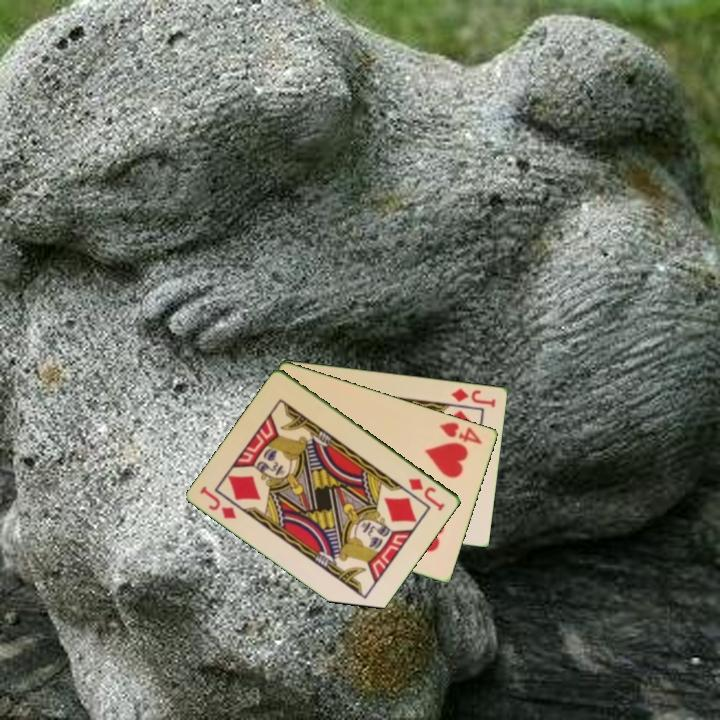4h: (436, 418, 486, 447)
Jd: (405, 474, 448, 514), (197, 483, 240, 522), (448, 385, 499, 410)
